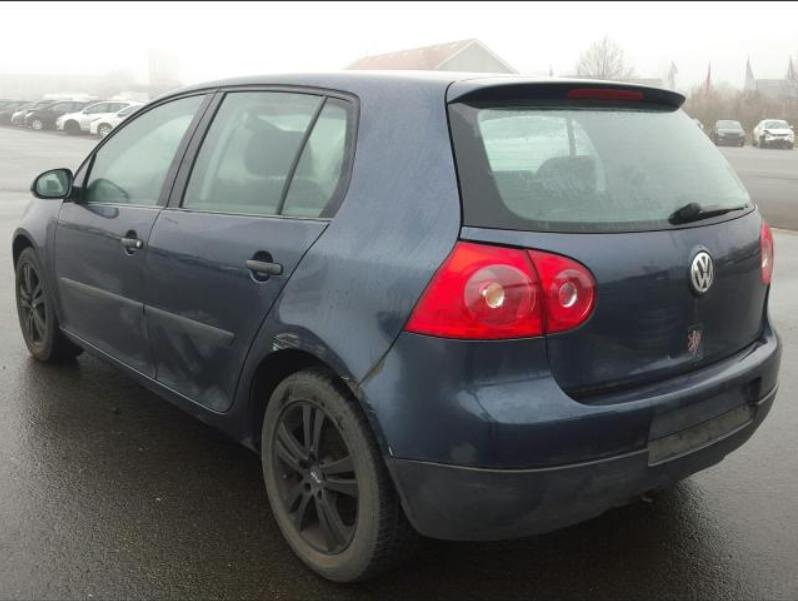Back-bumper: (358, 326, 782, 541)
Back-door: (143, 84, 359, 412)
Back-wheel: (261, 369, 419, 582)
Back-window: (180, 91, 323, 213), (283, 97, 346, 217)
Back-windshield: (448, 99, 757, 233)
Fender: (11, 198, 64, 326)
Front-door: (54, 88, 217, 378)
Front-wheel: (15, 248, 59, 360)
Front-window: (65, 93, 215, 206)
License-plate: (649, 378, 761, 465)
Mirror: (34, 168, 73, 198)
Quarter-panel: (217, 209, 462, 454)
Rocker-panel: (59, 326, 229, 429)
Roof: (143, 70, 530, 107)
Tail-light: (403, 241, 546, 340), (527, 250, 597, 336), (759, 220, 773, 286)
Trunk: (459, 210, 770, 398), (446, 77, 686, 106)
